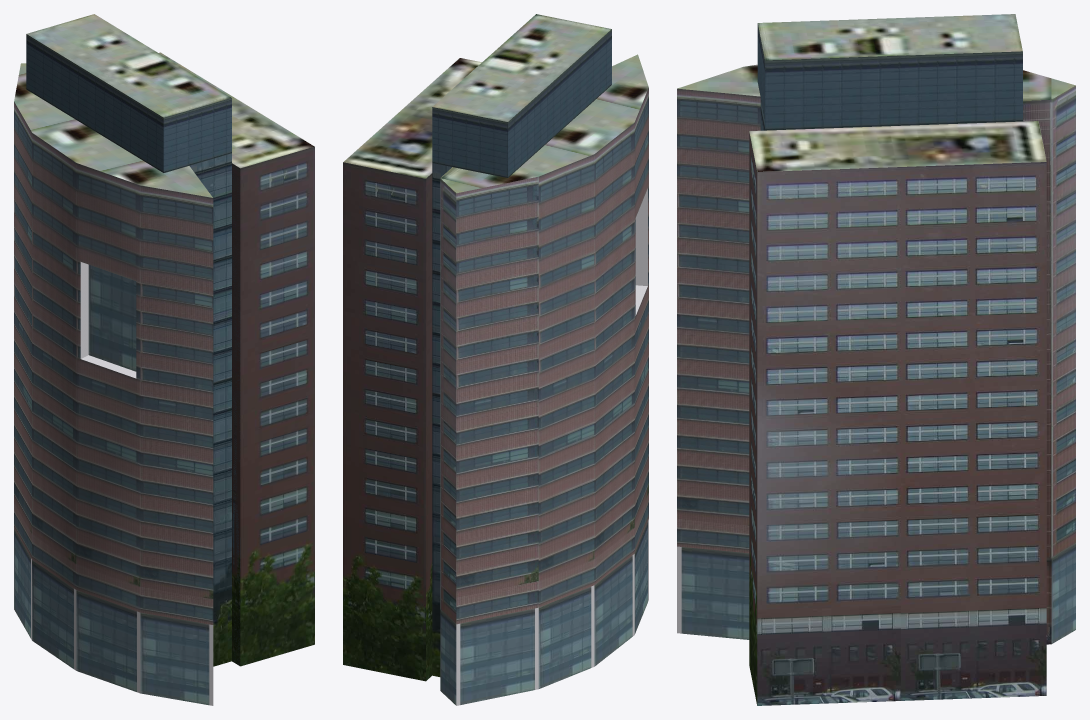
The model's file is Eurotoren.dae.
3 renders of one model, left to right at view 1: azimuth 30°, elevation 25°; view 2: azimuth 150°, elevation 25°; view 3: azimuth 270°, elevation 25°, orthographic. The views are drawn at different scales.
Visible parts, largest first — view 1: skp2838 (×14); view 2: skp2838 (×14); view 3: skp2838 (×11).
Boxes of the visible parts, x1,y1,x2,y2 form: skp2838 (×14): (14,14,314,705); skp2838 (×14): (343,14,648,705); skp2838 (×11): (677,14,1075,705).
Bounding box in the file's own units: 1095 × 1697 × 2835.
Materials: 11 (11 with a texture image).
